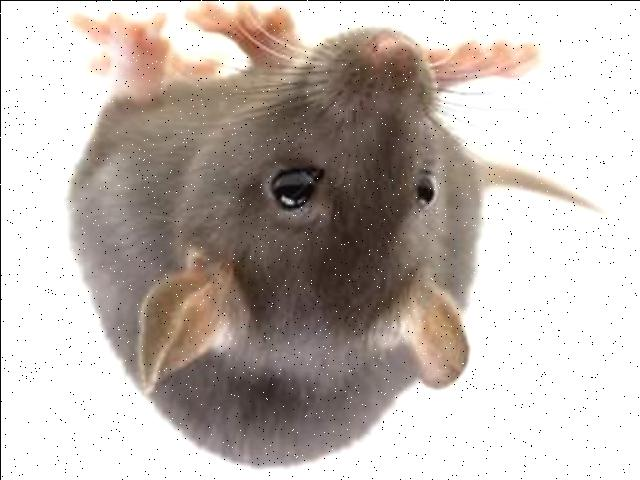Tikus: (59, 5, 541, 480)
